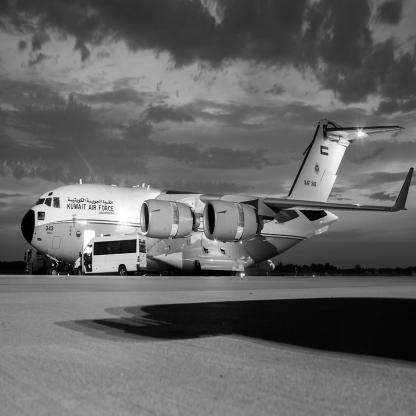C17: (22, 118, 415, 277)
